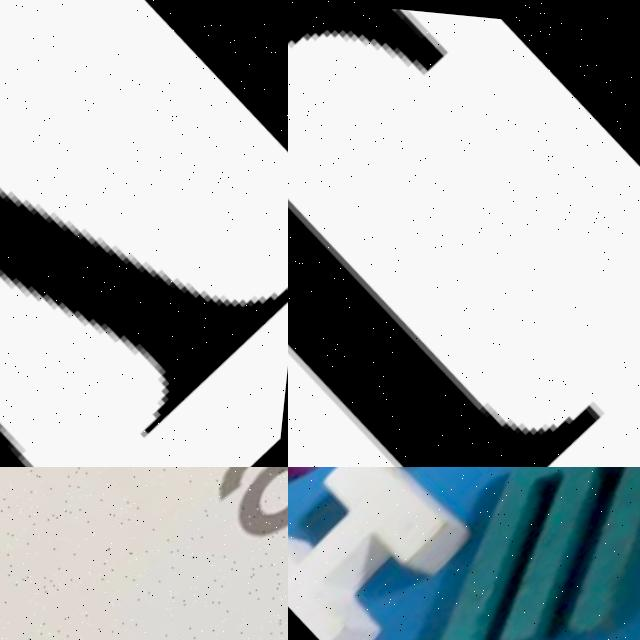6: (180, 467, 288, 560)
G: (288, 467, 407, 524)
H: (288, 467, 519, 640)
M: (354, 467, 640, 640)
R: (0, 0, 288, 467)
T: (288, 0, 640, 467)
